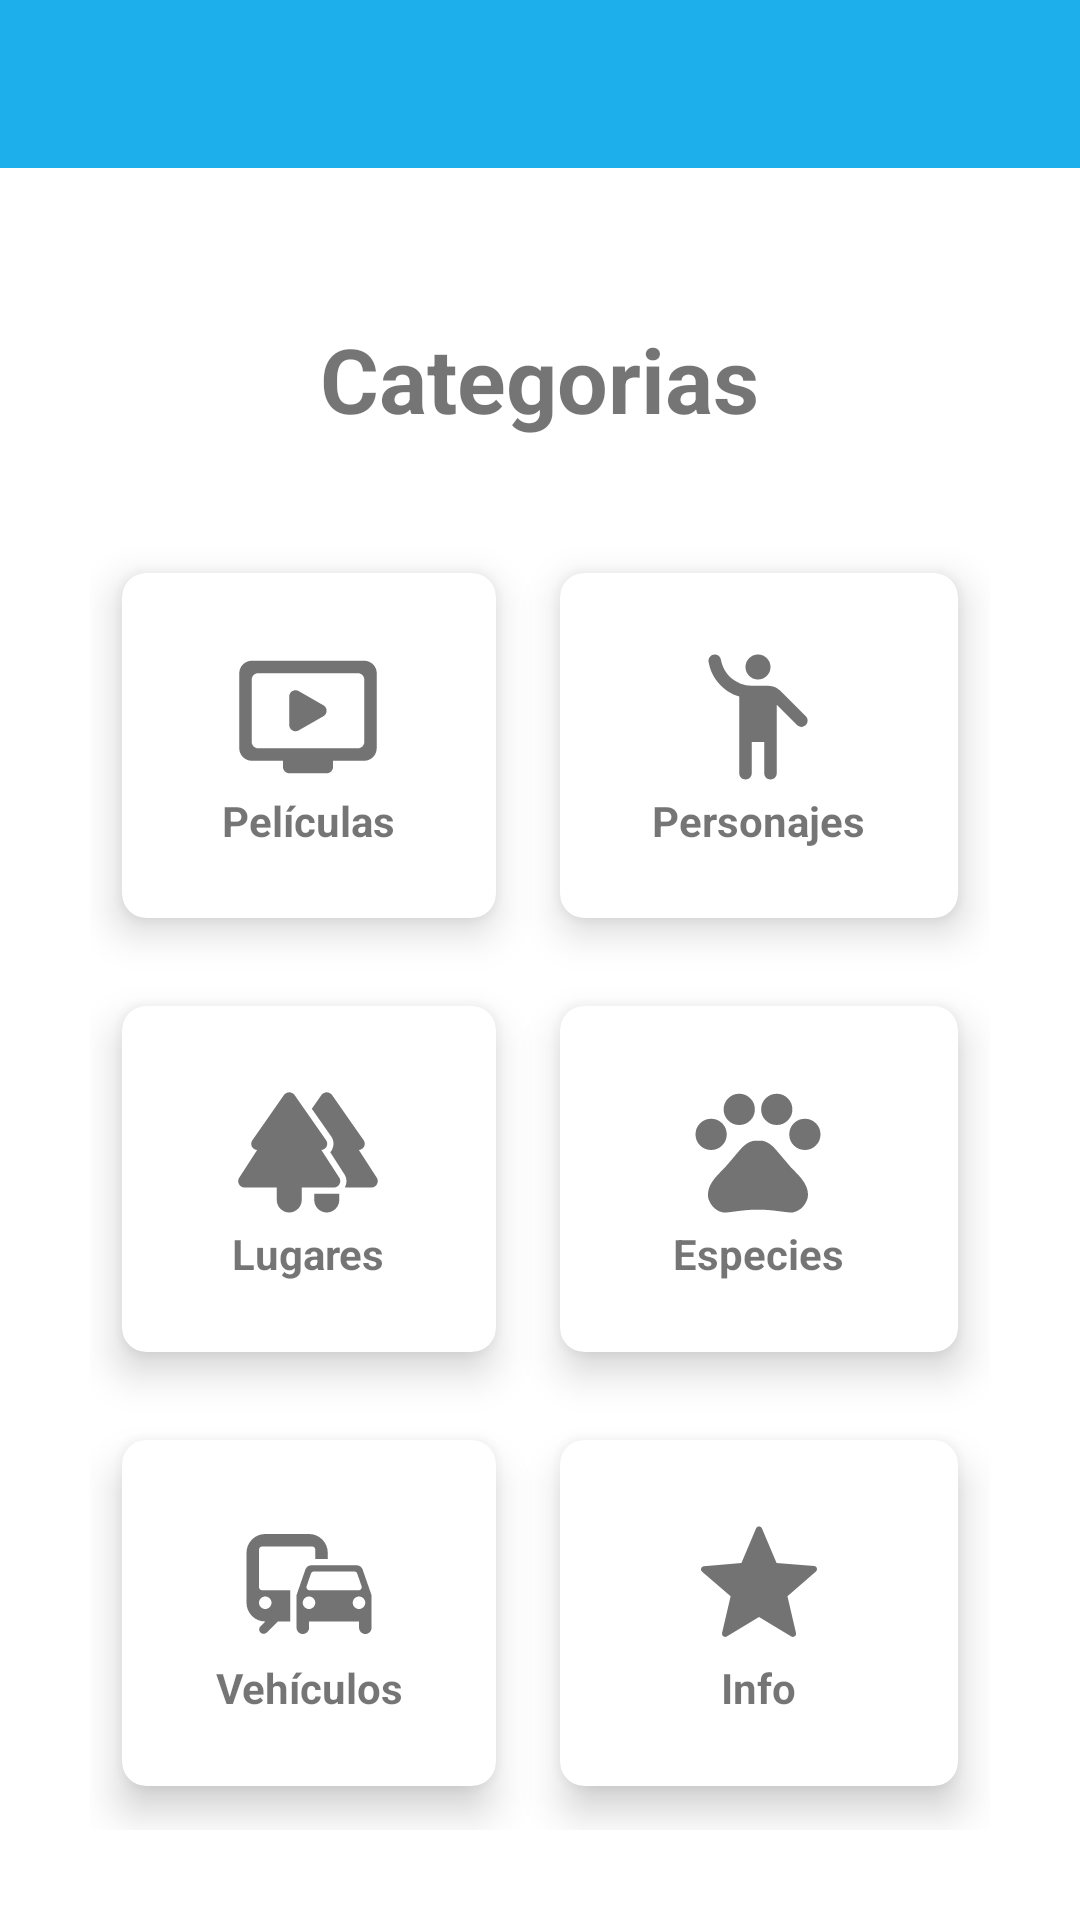

Icon click points for this 1080x1920 phone screenshot, format (x,y):
commute: (309,1584)
emoji people: (758,717)
forest: (308,1152)
grade star: (759,1581)
ondemand video: (308,717)
pets: (758,1153)
